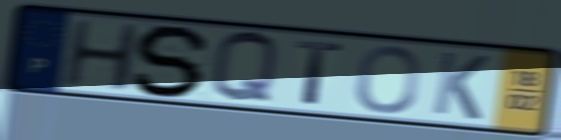H: (59, 18, 142, 94)
K: (429, 48, 493, 123)
O: (353, 43, 424, 116)
Q: (208, 29, 281, 106)
S: (130, 22, 217, 100)
T: (293, 37, 346, 108)
